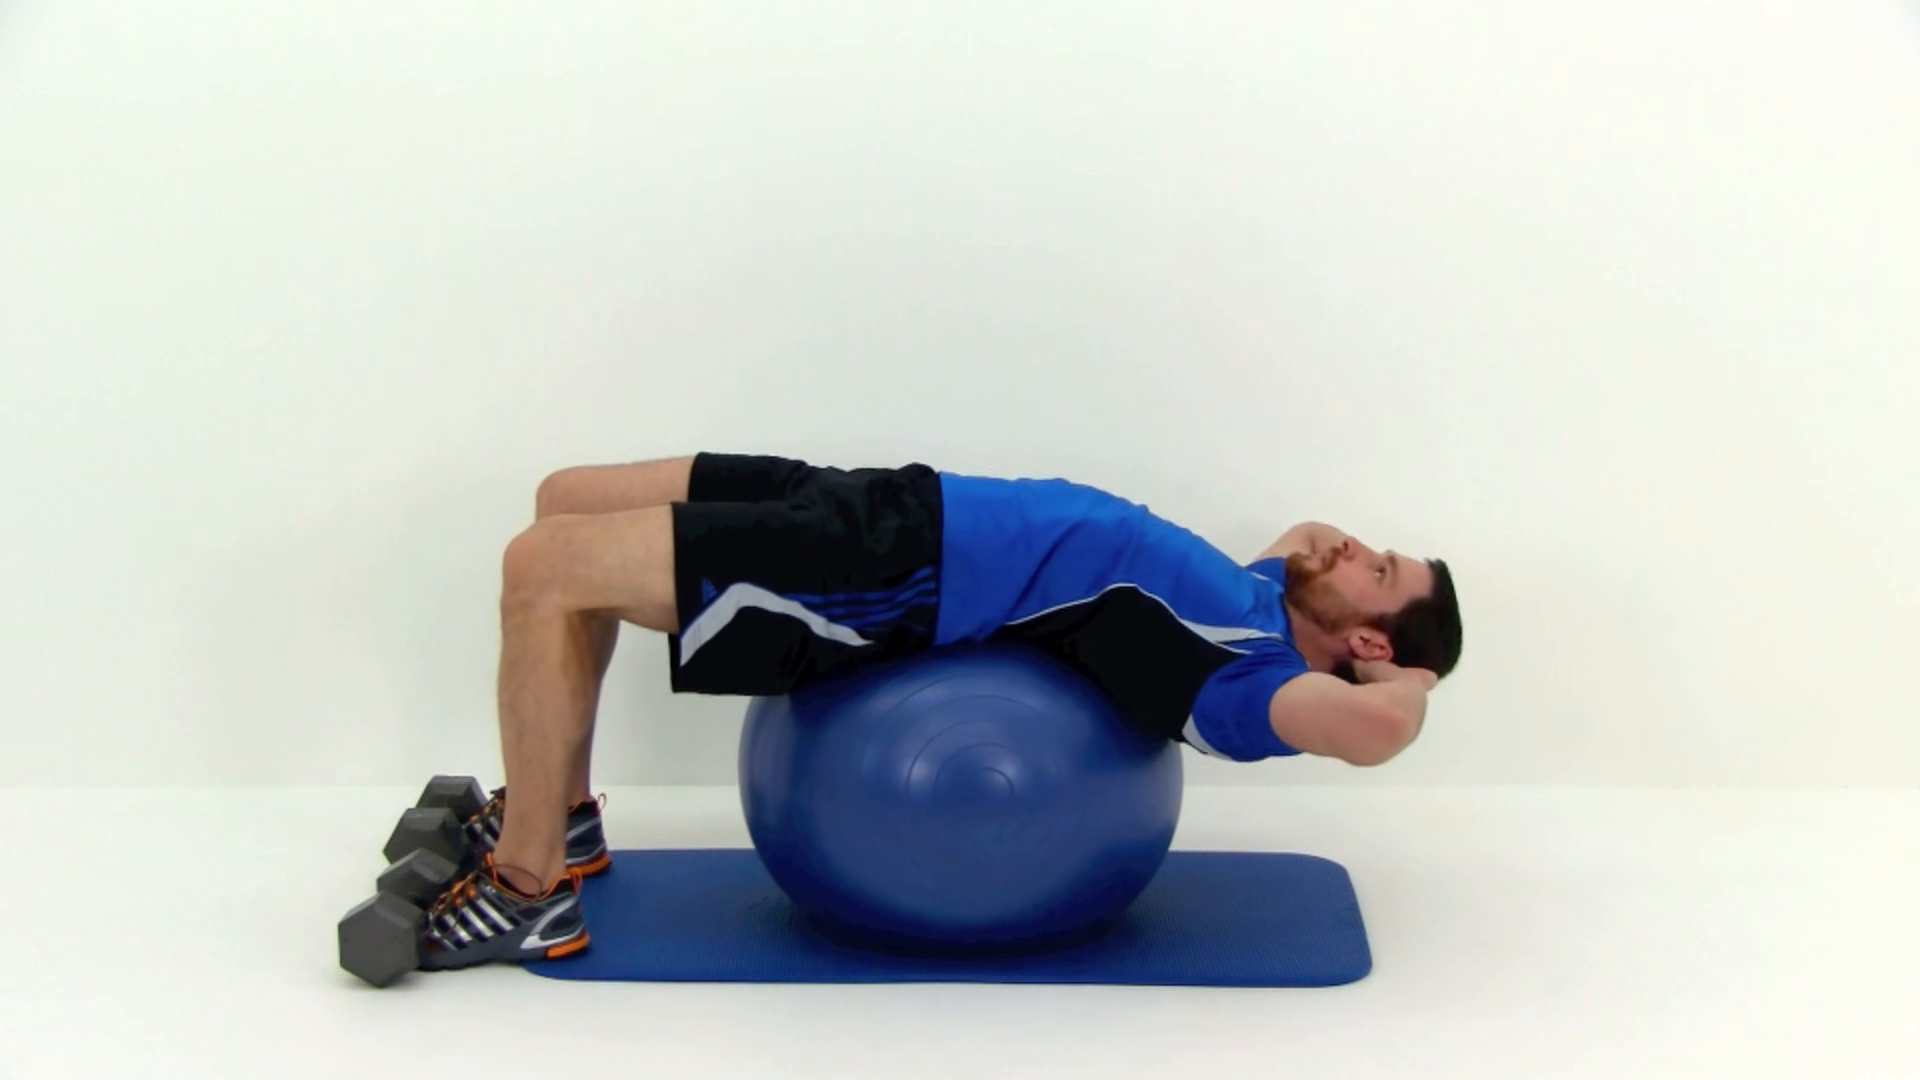yogaball: (723, 618, 1207, 957)
